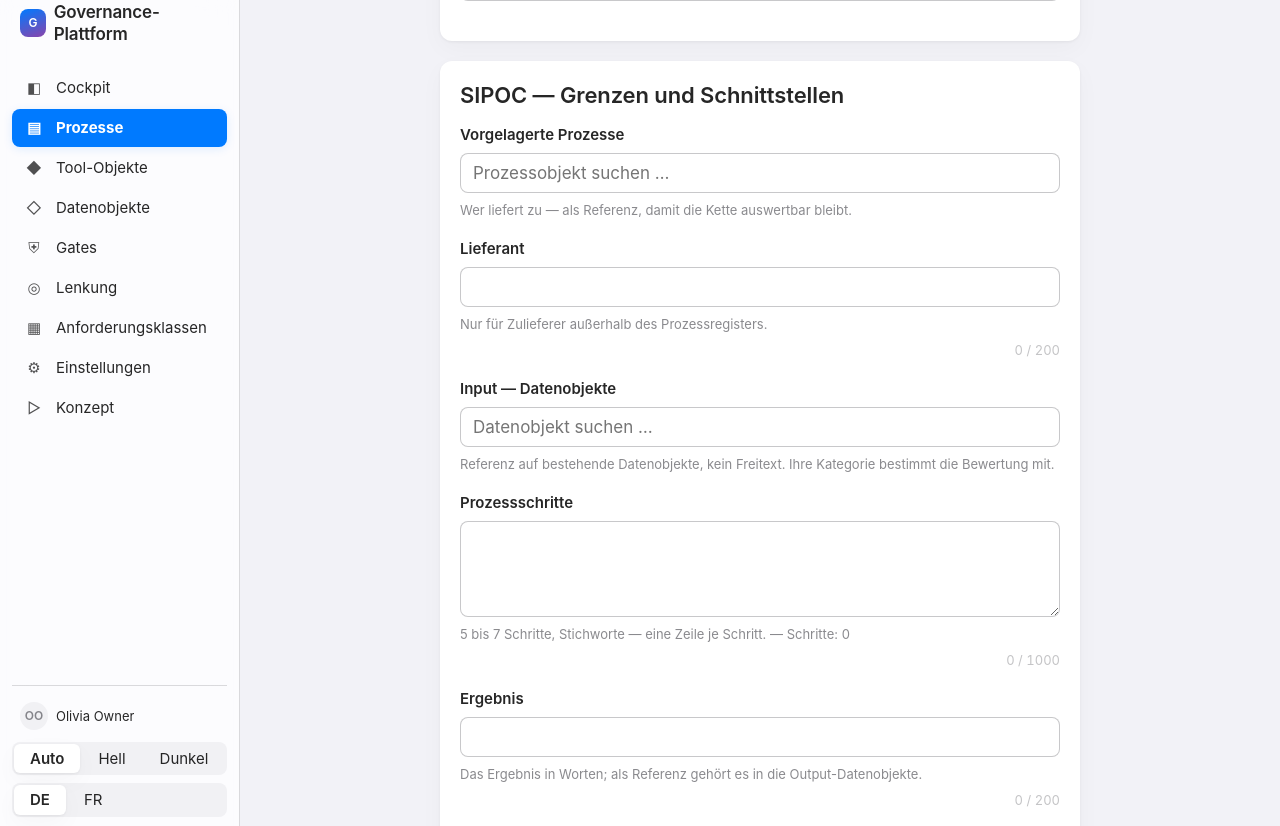
Test case: Prozessformular — Referenzen statt Freitext › zeigt die Kategorie eines Datenobjekts schon bei der Auswahl
The image size is (1280, 826).
(page scrolled)
Type "Entgelt" into the dropdown labelled "Input — Datenobjekte" at x=760, y=427, box top-left (460, 407), bottom-right (1060, 447)
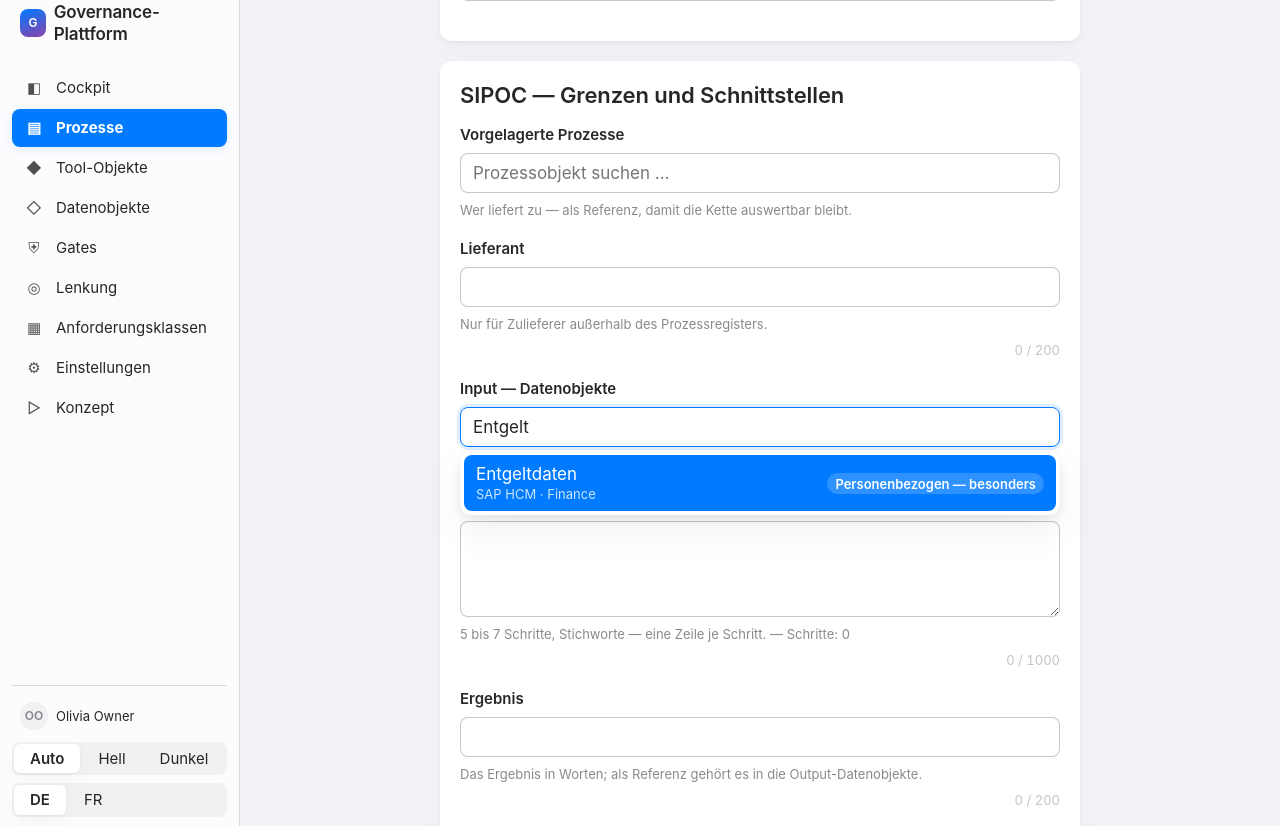
Expected: the text "Personenbezogen — besonders" is shown, top-left (827, 473), bottom-right (1044, 494)
Expected: the text "SAP HCM · Finance" is shown, top-left (476, 486), bottom-right (596, 502)
